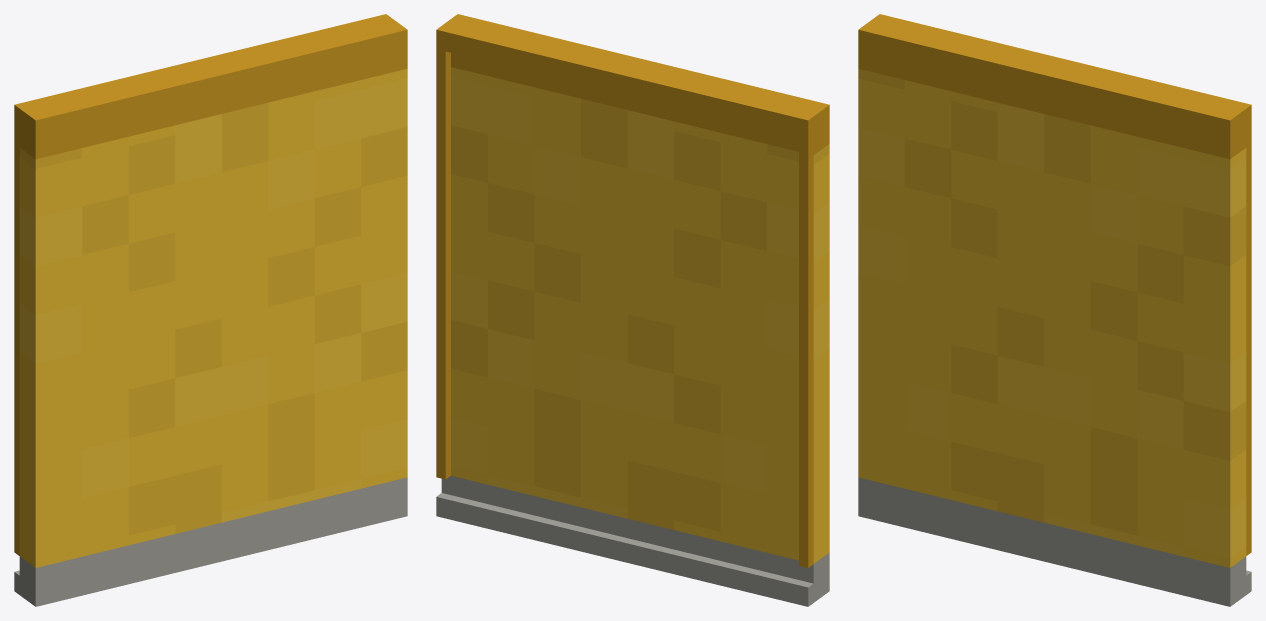
The model's file is ws_wall.glb.
The picture shows the model from 3 angles, left to right: view 1: azimuth 30°, elevation 25°; view 2: azimuth 150°, elevation 25°; view 3: azimuth 330°, elevation 25°; orthographic projection.
Visible parts, largest first — view 1: wall; view 2: wall; view 3: wall.
Part boxes in pixels (left/top/right/bottom): wall: left=14, top=14, right=407, bottom=606; wall: left=436, top=14, right=829, bottom=606; wall: left=858, top=14, right=1251, bottom=606.
Size of the model in its own units: 4 by 5 by 0.4.
